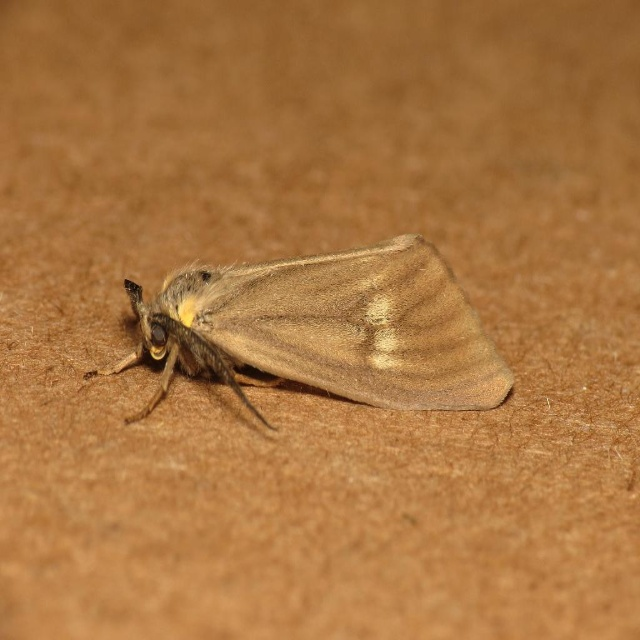Moths and butterflies: (83, 233, 519, 438)
